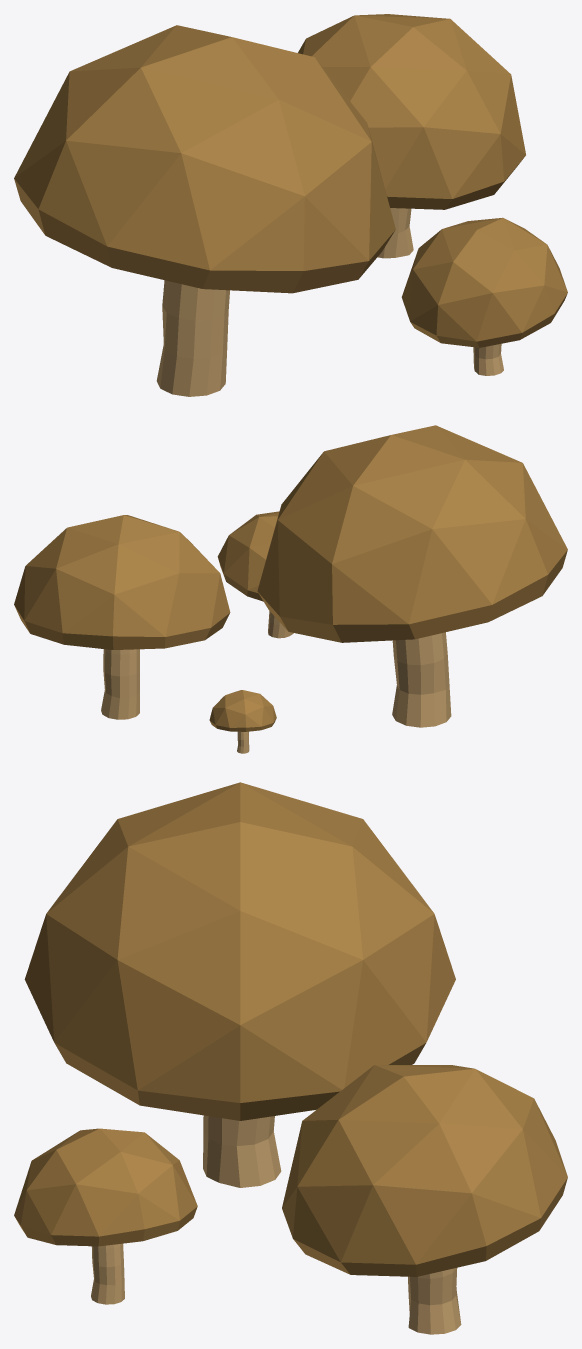
File: Pilze 2.fbx
3 renders of one model, top to bottom at view 1: azimuth 30°, elevation 25°; view 2: azimuth 150°, elevation 25°; view 3: azimuth 270°, elevation 25°, orthographic. The views are drawn at different scales.
Visible parts, largest first — view 1: pilz; view 2: pilz; view 3: pilz.
Part boxes in pixels (x1=…): pilz: x1=14, y1=14, x2=567, y2=396; pilz: x1=14, y1=425, x2=567, y2=753; pilz: x1=14, y1=782, x2=567, y2=1334.
Bounding box in the file's own units: 47.14 × 27.31 × 37.05.
